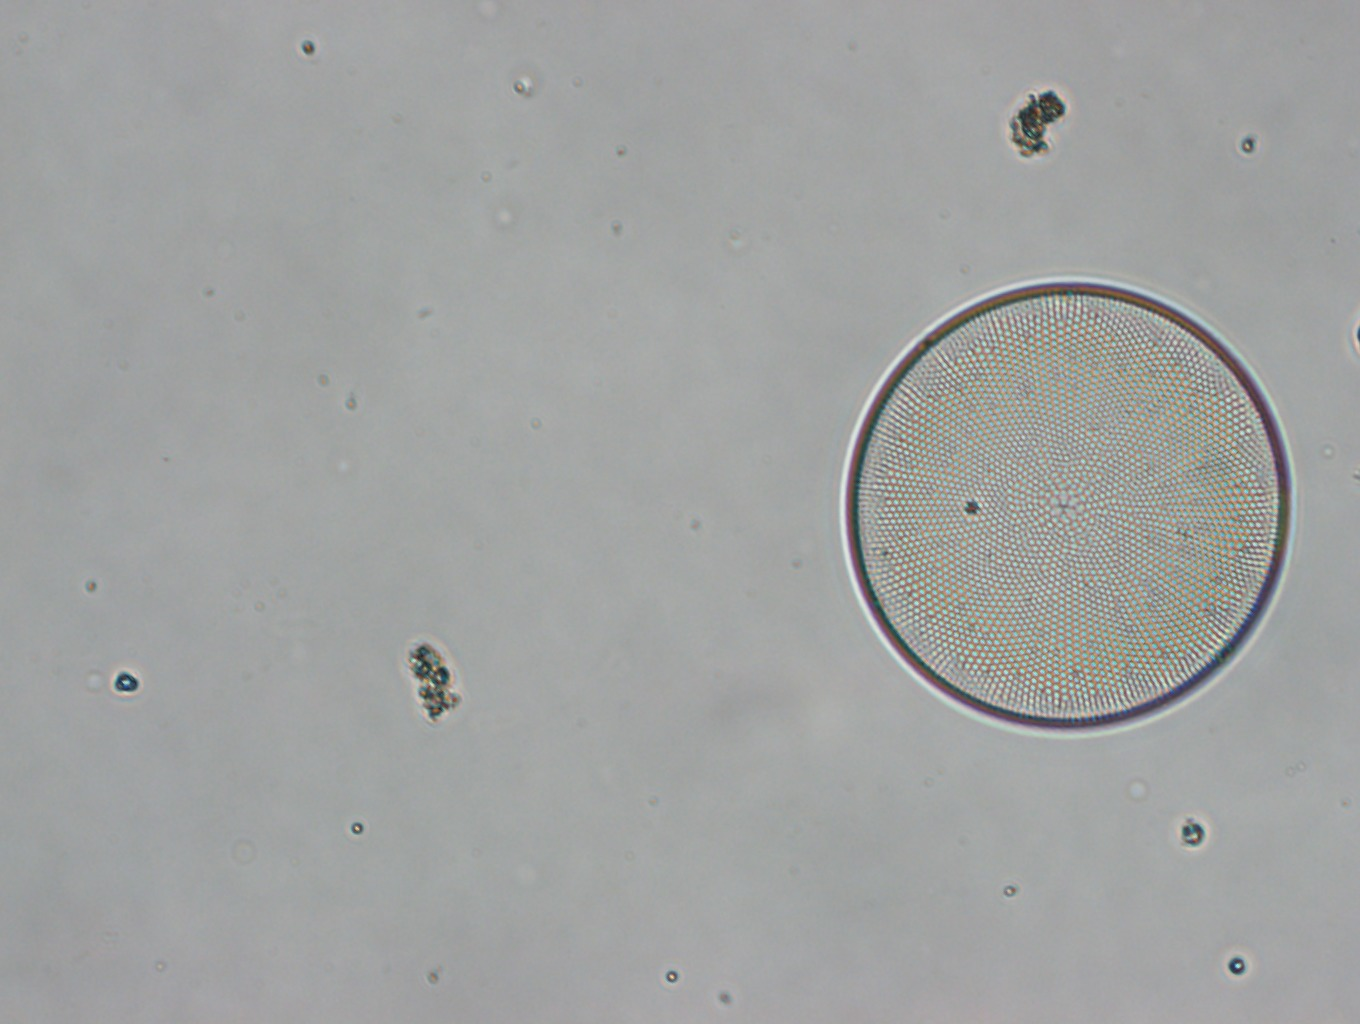coscinodiscus: (841, 278, 1294, 739)
